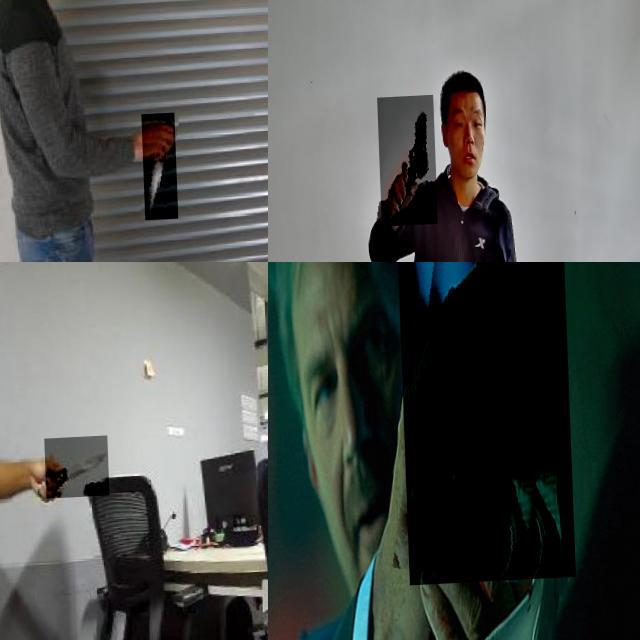-: (42, 439, 106, 502), (139, 118, 175, 225)
gun-knife-thesis - v11 Yolov5 augmented: (394, 262, 572, 588), (376, 99, 435, 230)
